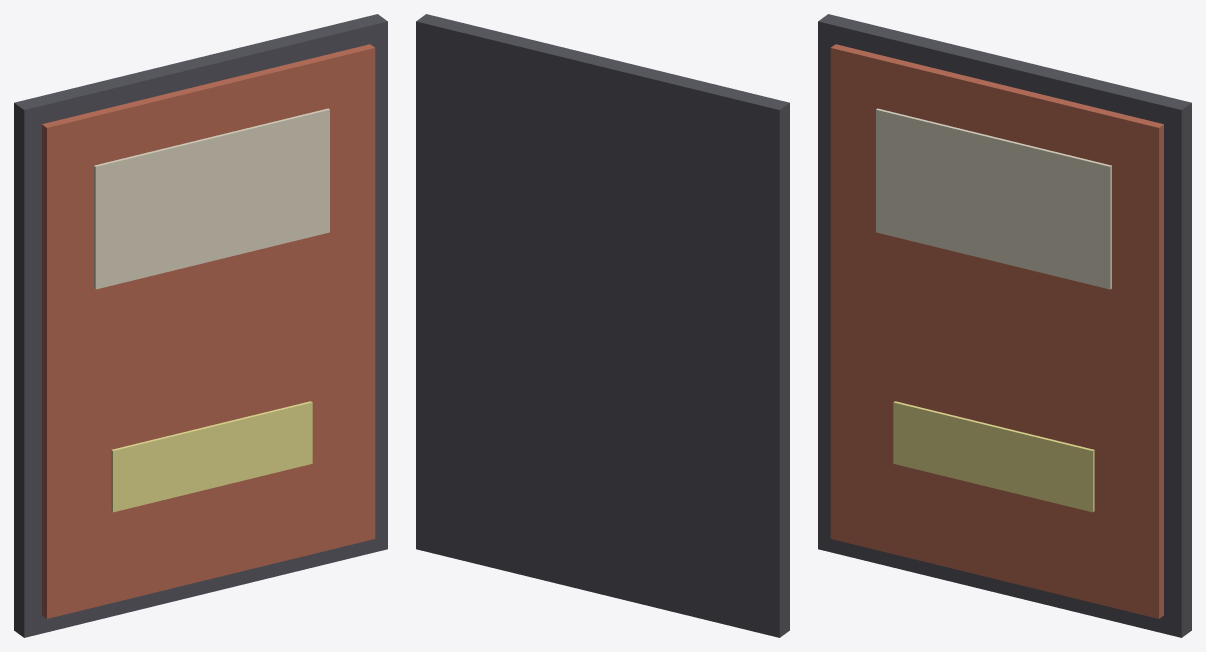
Rendered from wall_poster.glb.
3 views of the same model, side by side, from view 1: azimuth 30°, elevation 25°; view 2: azimuth 150°, elevation 25°; view 3: azimuth 330°, elevation 25° (orthographic).
Parts seen in each view (by area): view 1: wall_poster; view 2: wall_poster; view 3: wall_poster.
Boxes of the visible parts, x1,y1,x2,y2 form: wall_poster: (14,14,387,637); wall_poster: (416,14,789,637); wall_poster: (818,14,1191,637).
Bounding box in the file's own units: 0.62 × 0.86 × 0.05.
